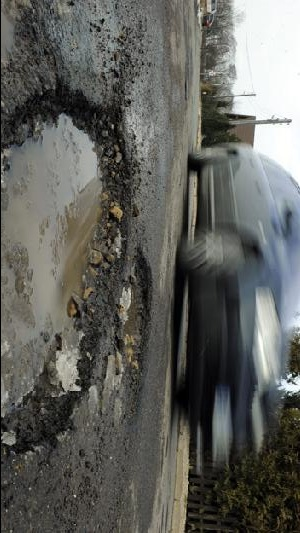pothole: (0, 80, 137, 463), (113, 246, 155, 421)
